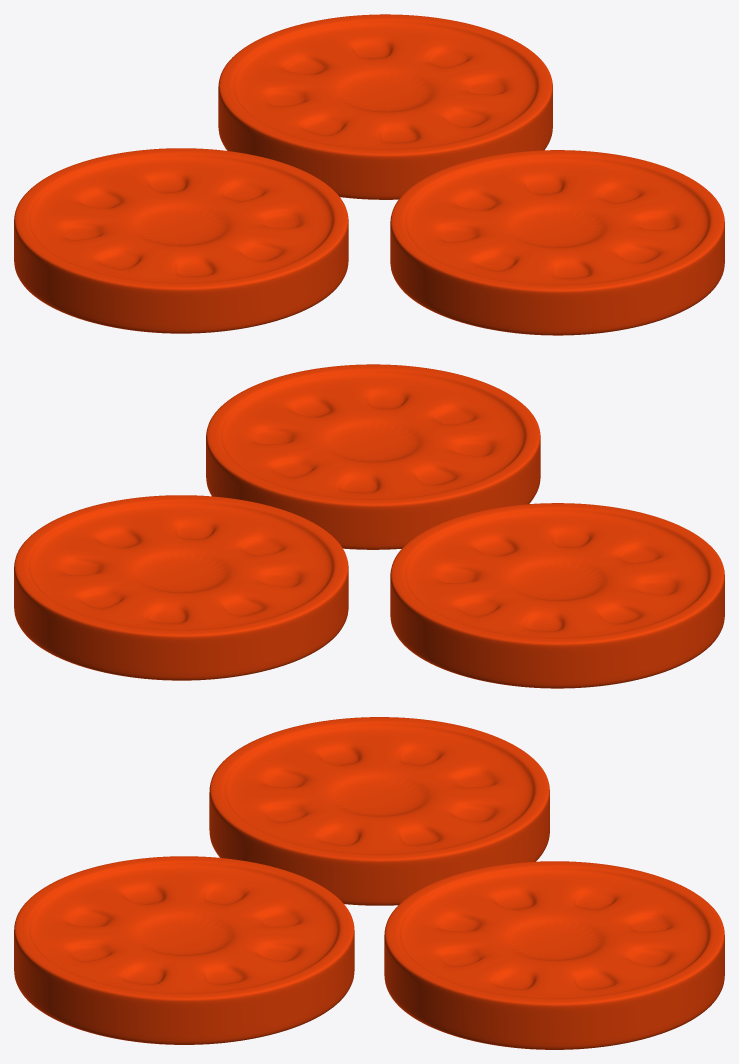
The model's file is Tomato.fbx.
3 views of the same model, one above another, from view 1: azimuth 30°, elevation 25°; view 2: azimuth 150°, elevation 25°; view 3: azimuth 270°, elevation 25° (orthographic).
Visible parts, largest first — view 1: Cylinder.019, Cylinder.020, Cylinder.018; view 2: Cylinder.018, Cylinder.019, Cylinder.020; view 3: Cylinder.020, Cylinder.018, Cylinder.019.
Part boxes in pixels (x1=…): Cylinder.019: x1=14, y1=148, x2=348, y2=333; Cylinder.020: x1=390, y1=150, x2=724, y2=335; Cylinder.018: x1=218, y1=14, x2=552, y2=199; Cylinder.018: x1=14, y1=495, x2=348, y2=680; Cylinder.019: x1=390, y1=503, x2=724, y2=688; Cylinder.020: x1=206, y1=364, x2=540, y2=549; Cylinder.020: x1=14, y1=856, x2=354, y2=1044; Cylinder.018: x1=384, y1=861, x2=724, y2=1049; Cylinder.019: x1=209, y1=717, x2=549, y2=905.
Size of the model in its own units: 169 by 13.03 by 177.
